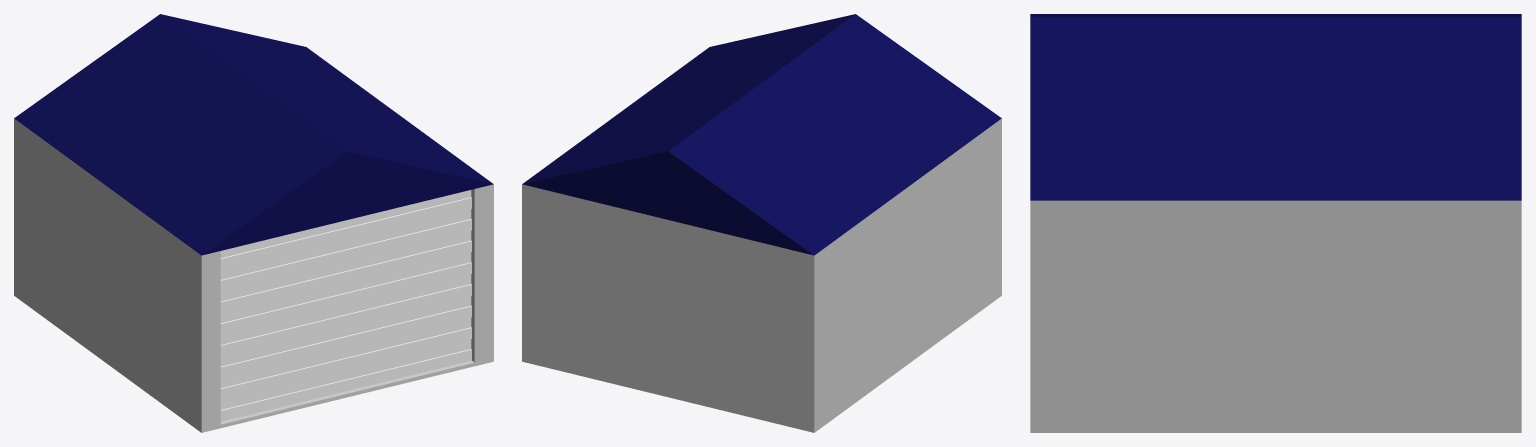
The model's file is Warehouse.fbx.
3 views of the same model, side by side, from view 1: azimuth 30°, elevation 25°; view 2: azimuth 150°, elevation 25°; view 3: azimuth 270°, elevation 25° (orthographic). The views are drawn at different scales.
Visible parts, largest first — view 1: Model; view 2: Model; view 3: Model.
Part boxes in pixels (x1,y1,x2,y2): Model: (14, 14, 493, 432); Model: (522, 14, 1001, 432); Model: (1030, 14, 1521, 432).
Size of the model in its own units: 167 by 134 by 185.
